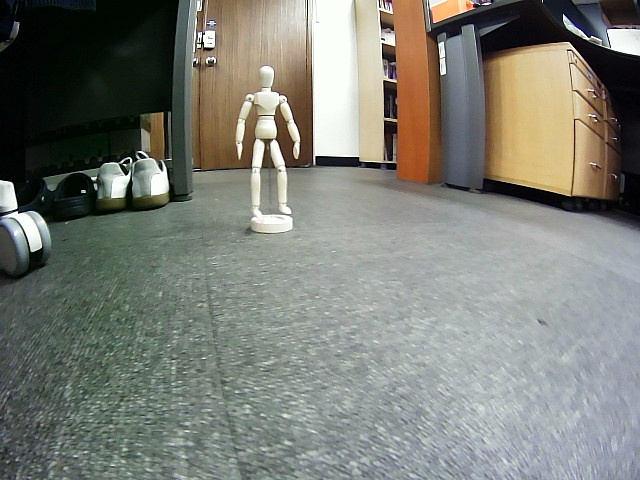person: (235, 65, 301, 220)
